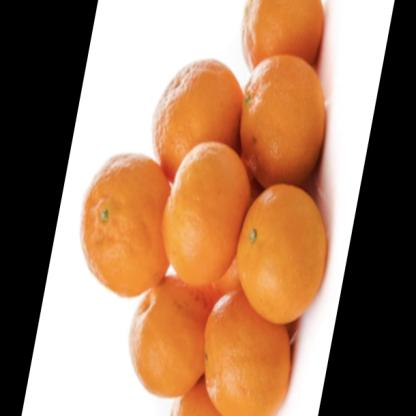fresh: (82, 1, 327, 416)
